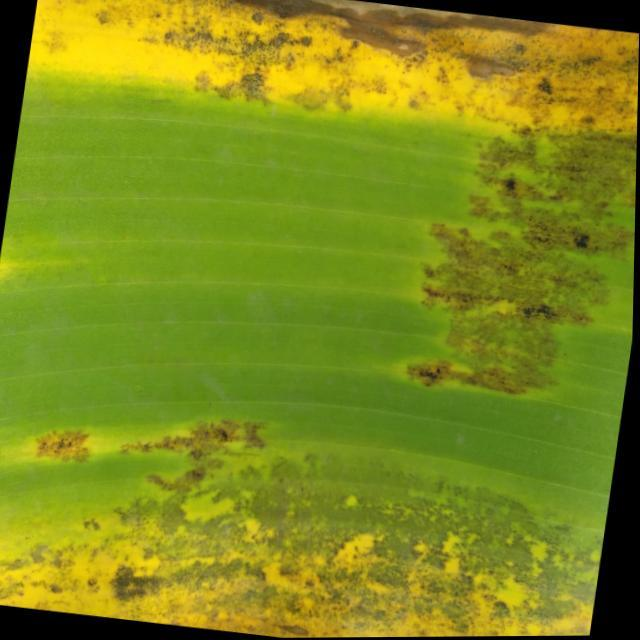Early_rust: (24, 0, 609, 640)
